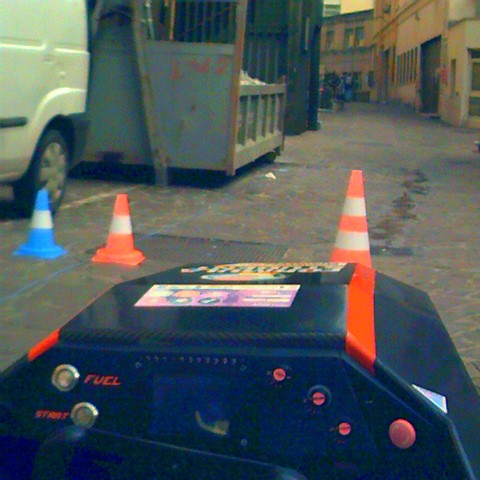cone: (12, 187, 66, 260)
